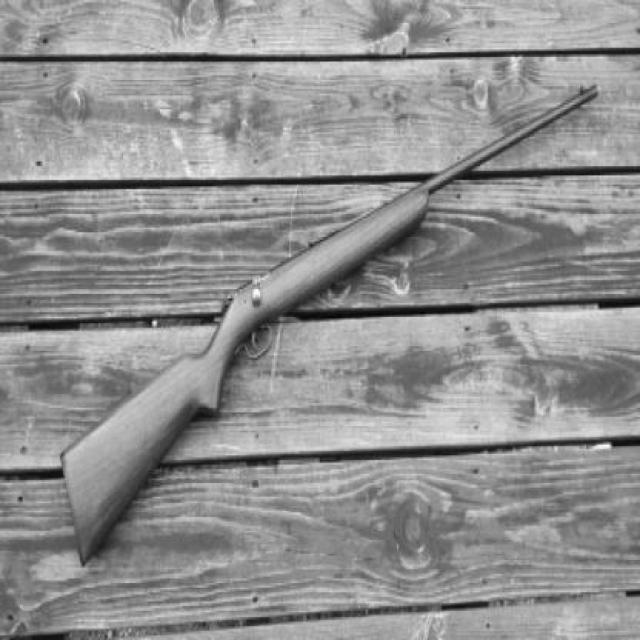weapon: (58, 82, 600, 567)
